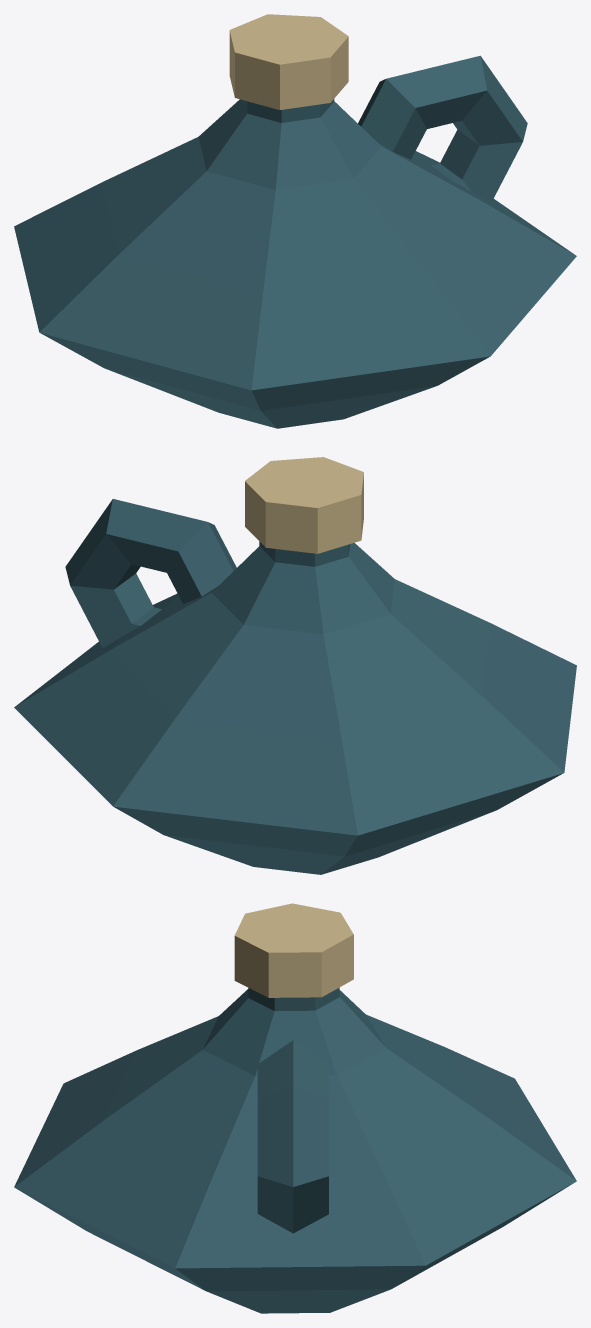
Rendered from ShortHandlePotion.038.fbx.
3 renders of one model, top to bottom at view 1: azimuth 30°, elevation 25°; view 2: azimuth 150°, elevation 25°; view 3: azimuth 270°, elevation 25°, orthographic.
Parts seen in each view (by area): view 1: ShortHandlePotion.038; view 2: ShortHandlePotion.038; view 3: ShortHandlePotion.038.
Boxes of the visible parts, bbox=[...] form: ShortHandlePotion.038: bbox=[14, 14, 576, 428]; ShortHandlePotion.038: bbox=[14, 457, 576, 874]; ShortHandlePotion.038: bbox=[14, 903, 576, 1313].
Bounding box in the file's own units: 18.39 × 12.73 × 18.37.
